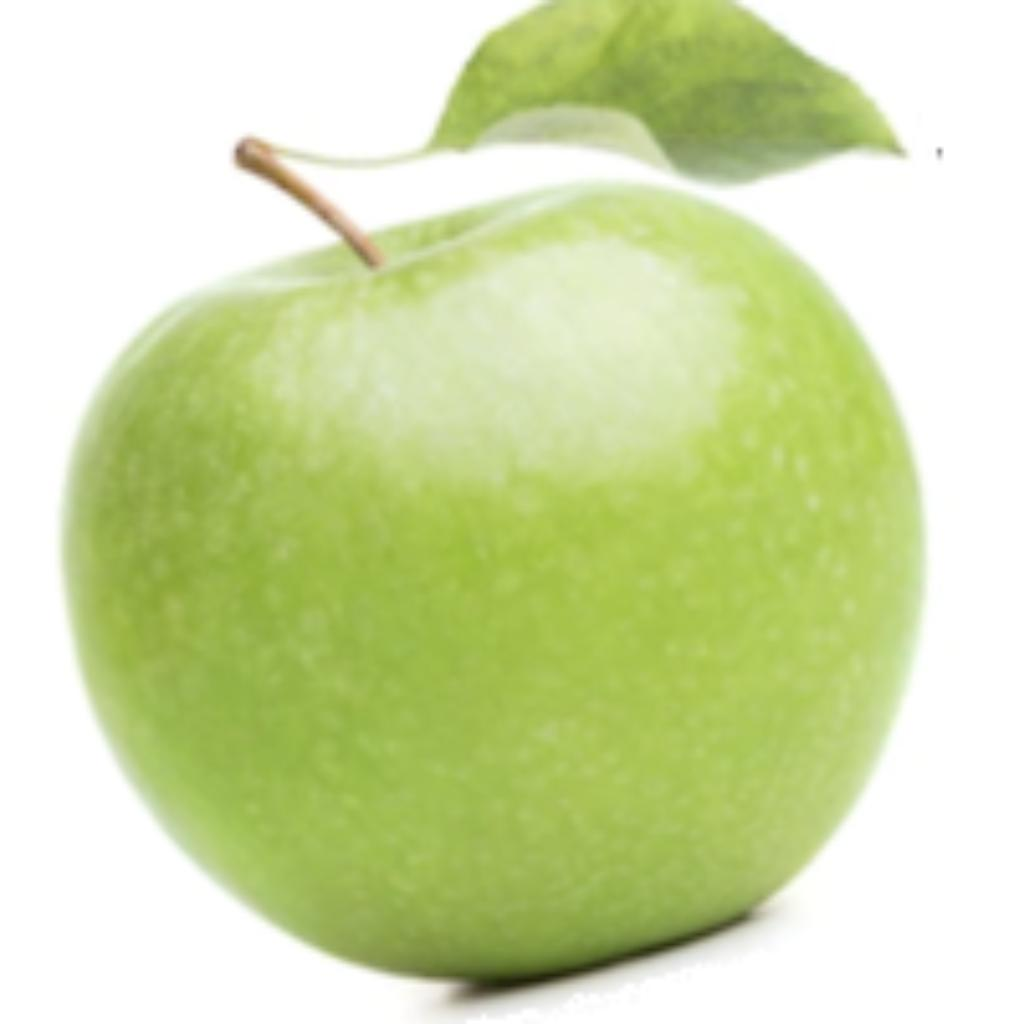apple: (51, 0, 932, 1019)
